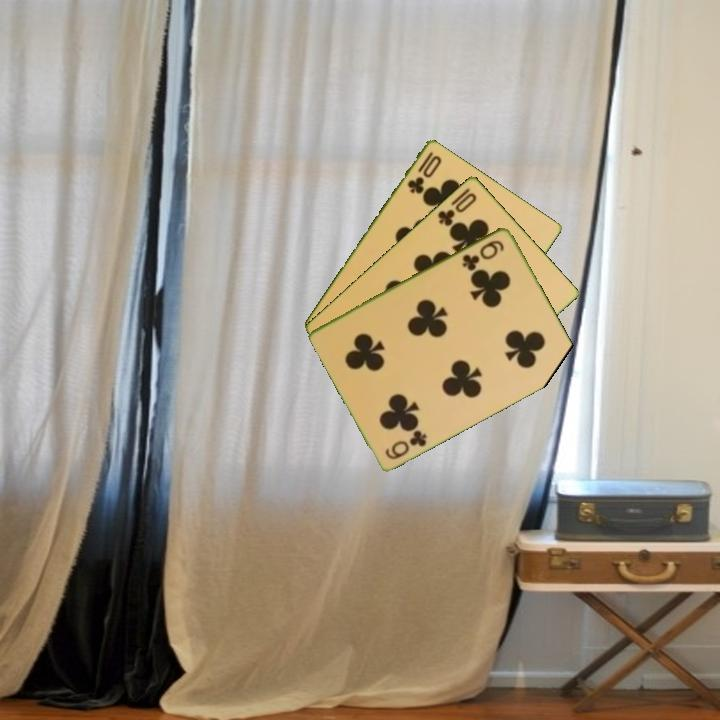10c: (434, 184, 480, 229), (403, 148, 444, 196)
6c: (458, 236, 507, 273), (382, 426, 430, 462)
